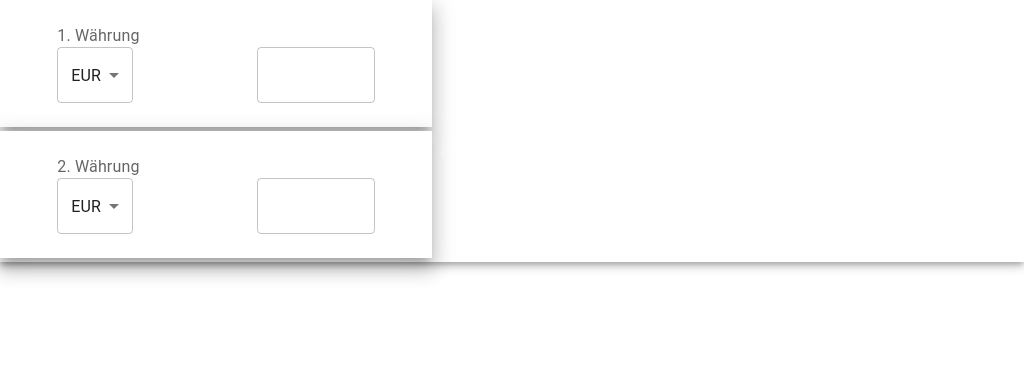
Test: shows an error instead of converting when loading a rate fails
Press the mouse on the dropdown labelled "EUR" below "2. Währung" at (86,206), box top-left (71, 196), bottom-right (101, 216)
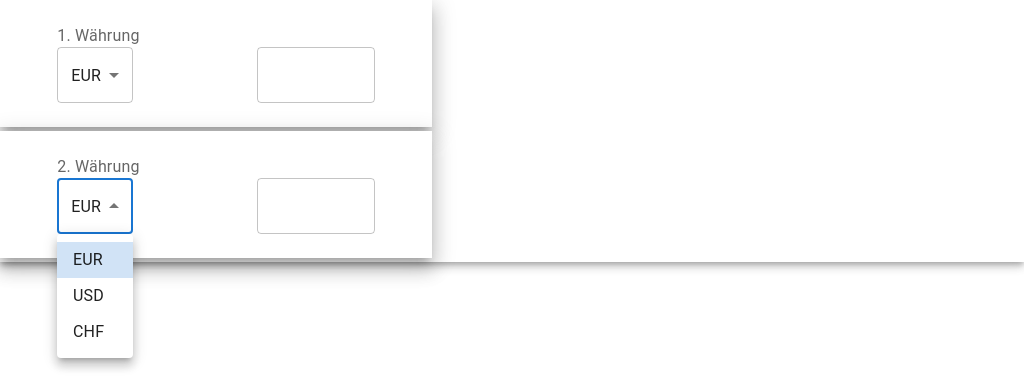
Click the option "USD". click: (88,296)
box: top-left (73, 286), bottom-right (104, 305)
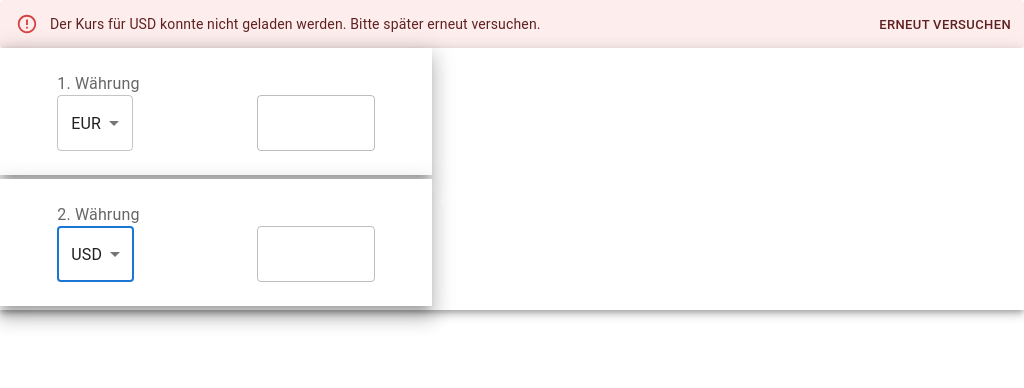
Expected: the message shows "Der Kurs für USD konnte nicht geladen werden", top-left (0, 0), bottom-right (1023, 48)
